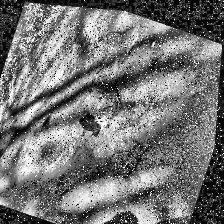pothole: (74, 9, 148, 140), (98, 130, 150, 188)
